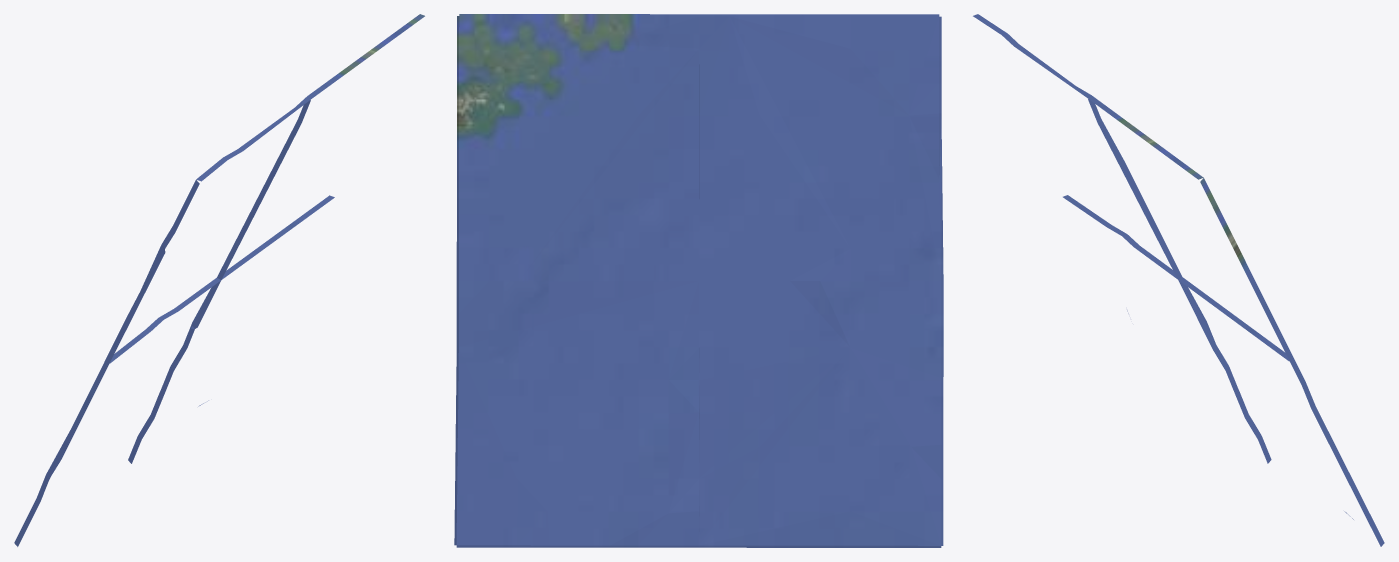
3 views of the same model, side by side, from view 1: azimuth 30°, elevation 25°; view 2: azimuth 150°, elevation 25°; view 3: azimuth 270°, elevation 25° (orthographic). The views are drawn at different scales.
Bounding box in the file's own units: 78835 × 71742 × 65057.
1 material, 1 textured.
